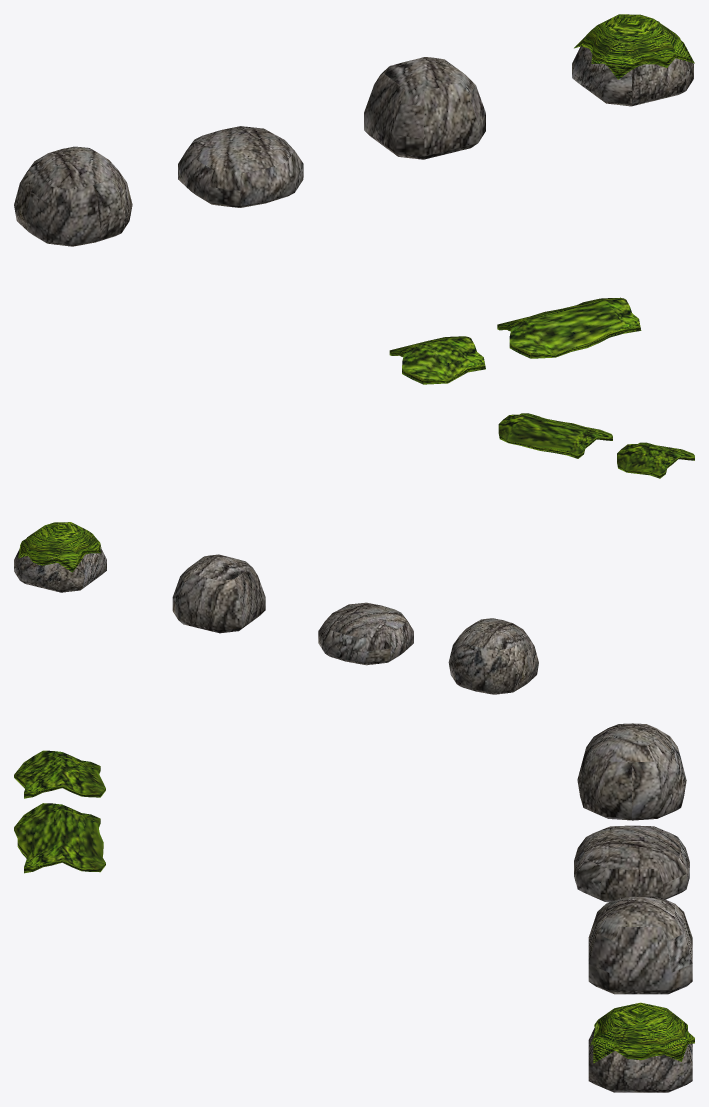
File: Moss florest Props 1.fbx
3 renders of one model, top to bottom at view 1: azimuth 30°, elevation 25°; view 2: azimuth 150°, elevation 25°; view 3: azimuth 270°, elevation 25°, orthographic. The views are drawn at different scales.
Parts seen in each view (by area): view 1: Pedra.001, Pedra.003, Pedra.002, Cube.006, Cube.007, Pedra, Cube.005; view 2: Pedra.001, Pedra.003, Pedra.002, Cube.006, Cube.007, Pedra, Cube.005; view 3: Pedra.001, Pedra.003, Pedra.002, Cube.006, Cube.007, Pedra, Cube.005.
Boxes of the visible parts, box(x1,y1,x2,y2) form: Pedra.001: box(364, 57, 485, 159); Pedra.003: box(14, 146, 132, 246); Pedra.002: box(178, 126, 303, 207); Cube.006: box(497, 297, 641, 358); Cube.007: box(574, 14, 694, 79); Pedra: box(572, 46, 693, 106); Cube.005: box(389, 336, 485, 384); Pedra.001: box(172, 554, 265, 633); Pedra.003: box(448, 618, 538, 694); Pedra.002: box(318, 602, 413, 665); Cube.006: box(498, 413, 612, 458); Cube.007: box(18, 522, 101, 572); Pedra: box(14, 546, 106, 592); Cube.005: box(617, 442, 694, 478); Pedra.001: box(588, 896, 692, 994); Pedra.003: box(577, 723, 686, 820); Pedra.002: box(574, 825, 689, 902); Cube.006: box(14, 803, 105, 873); Cube.007: box(590, 1002, 694, 1063); Pedra: box(588, 1028, 692, 1092); Cube.005: box(14, 750, 105, 798).
Size of the model in its own units: 1448 by 184 by 1309.
